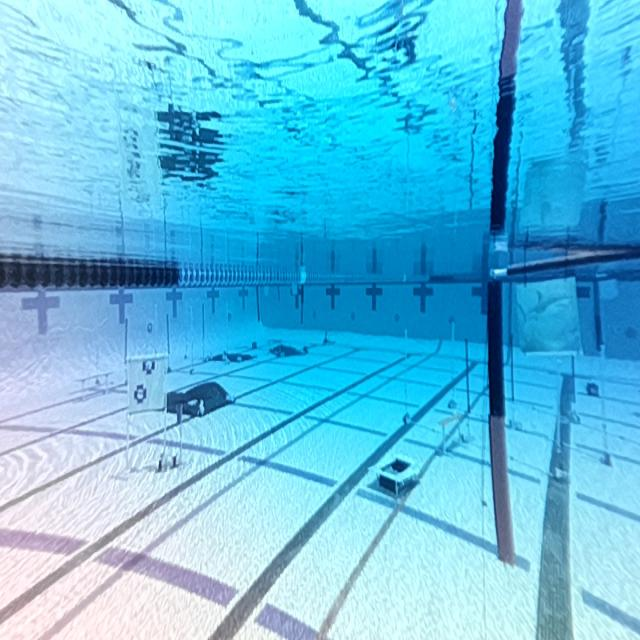round_nose: (516, 280, 580, 355)
